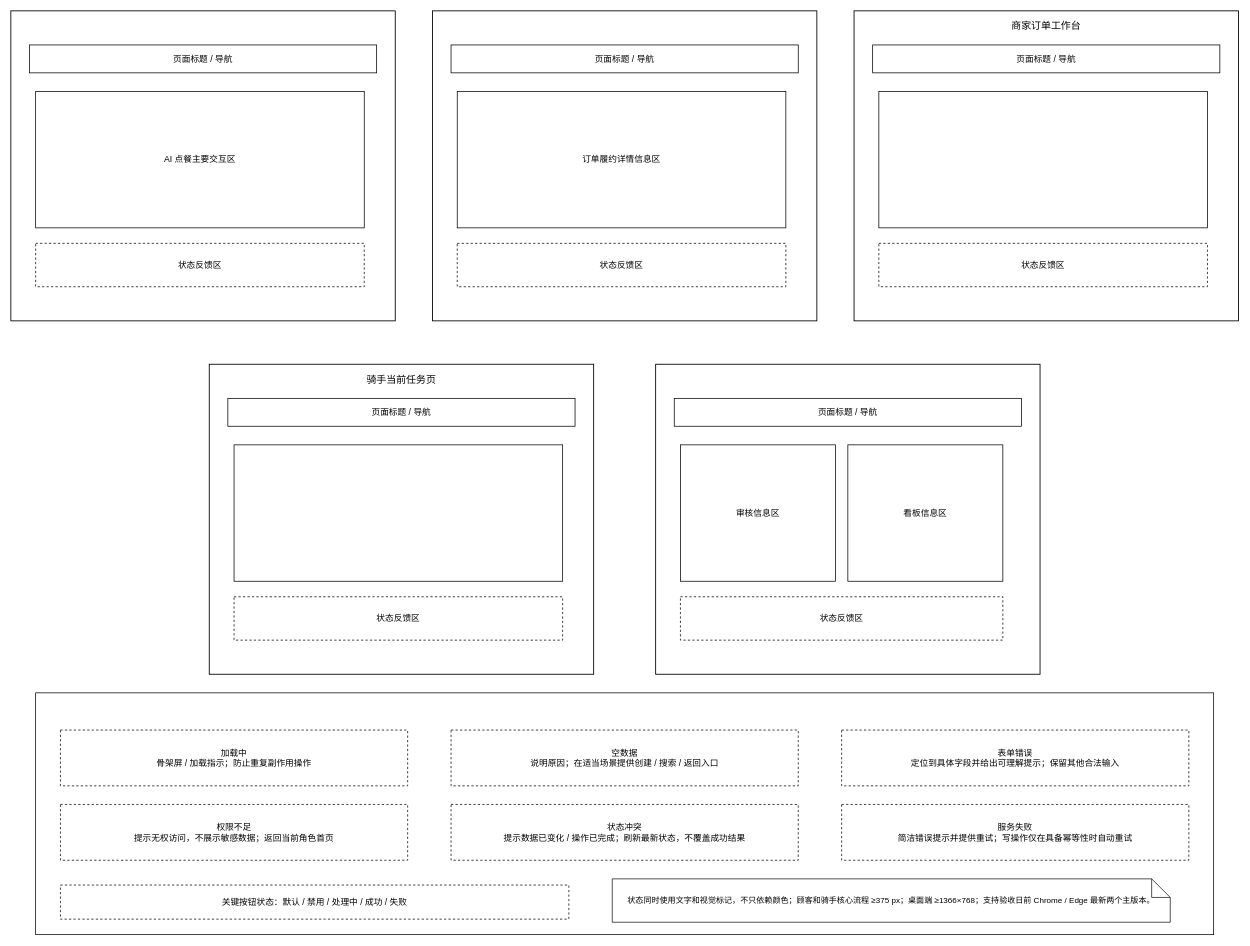
Image size: 1250x946. Some labels were removed from this diagram. The box of each missing label's shape, as (x1, y1, x2, y2) in pixels:
商家订单工作区: (878, 91, 1208, 228)
当前任务信息区: (233, 444, 563, 581)
管理员审核 / 看板页: (655, 364, 1040, 674)
订单履约详情页: (432, 10, 817, 321)
页面通用状态: (35, 692, 1214, 935)
顾客 AI 点餐页: (10, 10, 395, 321)
